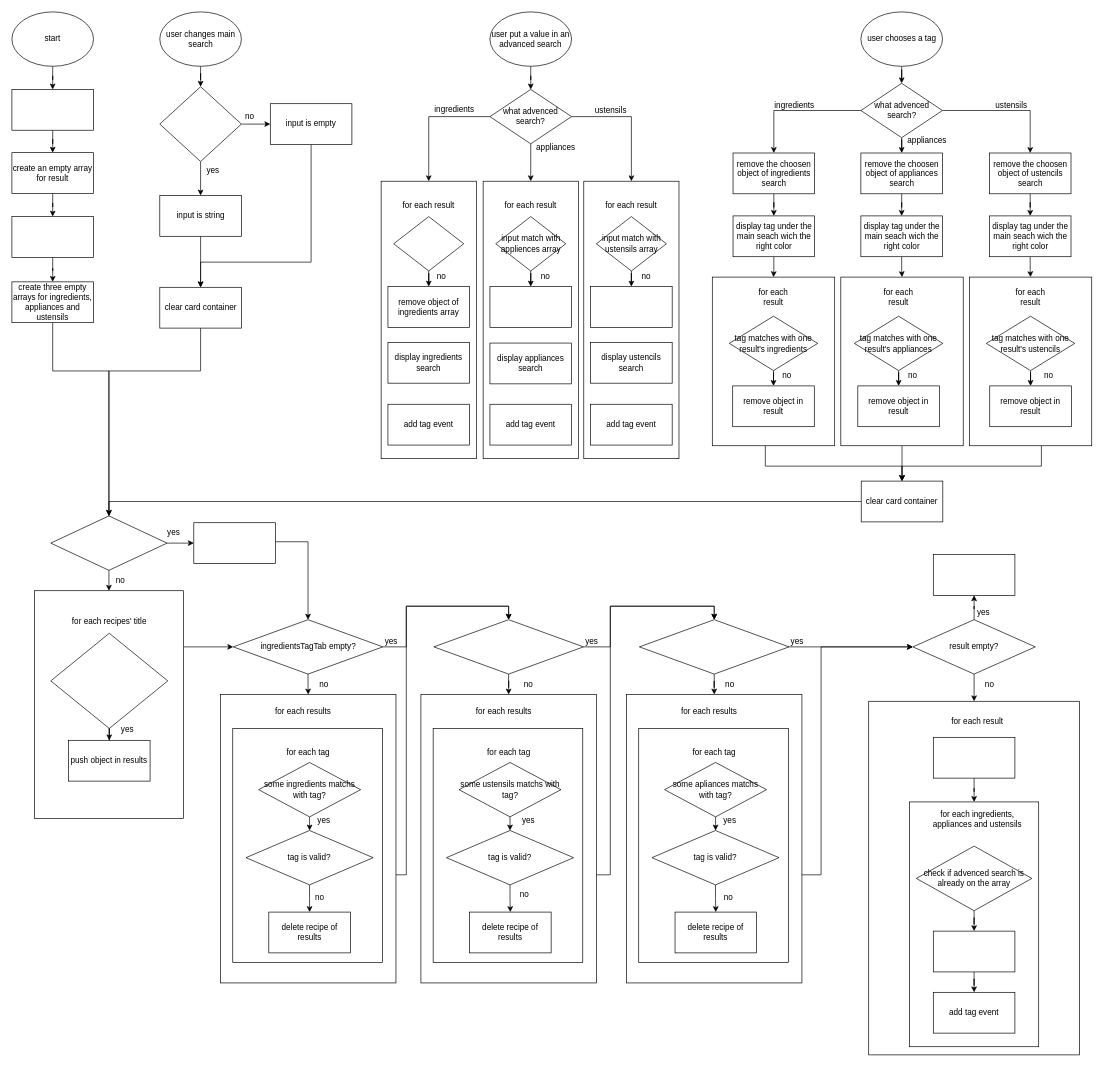
This 1104x1067 diagram has some shape labels left out. Here are the shapes that lost their labels. From the top down, the centre of each, then its label:
(52,109): add event on mainsearch
(200,124): min 3 characters
(52,236): create array with all recipes
(428,243): input match with ingredients array
(530,306): remove object of appliances array
(631,306): remove object of ustencils array
(108,542): input empty?
(234,543): recipes is results
(974,574): display "aucun resultat trouvé"
(508,646): ustensilsTagTab empty?
(714,646): appliancesTagTab empty?
(109,680): matches title, ingredients and description with search ?
(974,757): display card
(974,951): display advencedsearch in the right array
